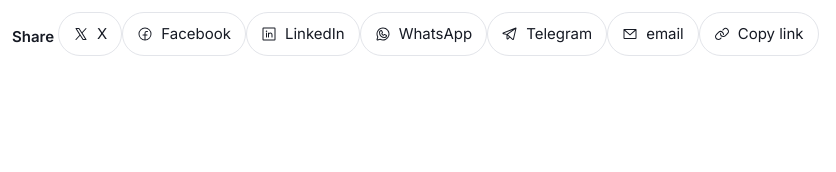
it: ShareBar › copies the link and confirms
The image size is (836, 172).
Click the button "Copy link": x=759, y=34 [699,12,819,56]
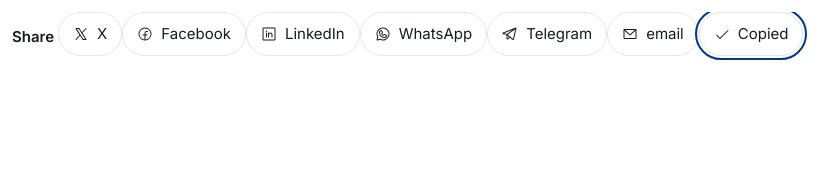
Result: the button "Copied" is shown at [699,12,804,56]
